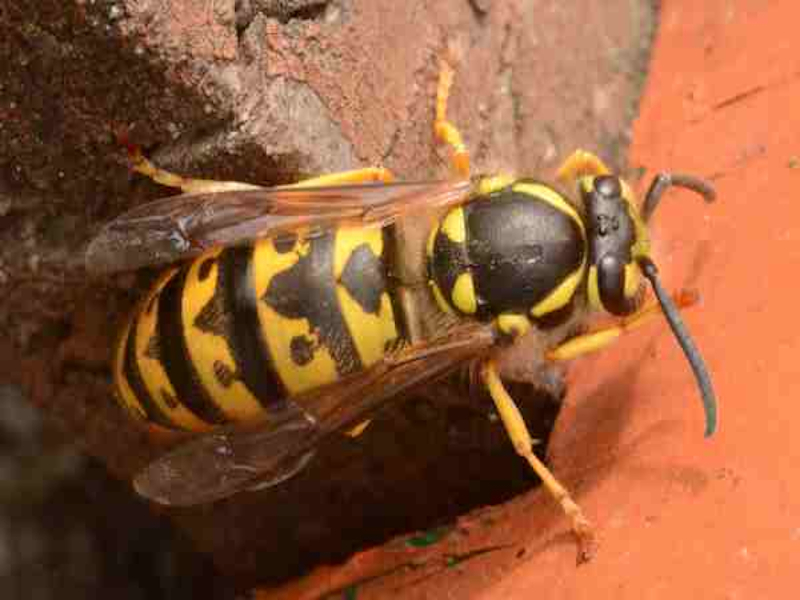chax: (32, 39, 751, 578)
